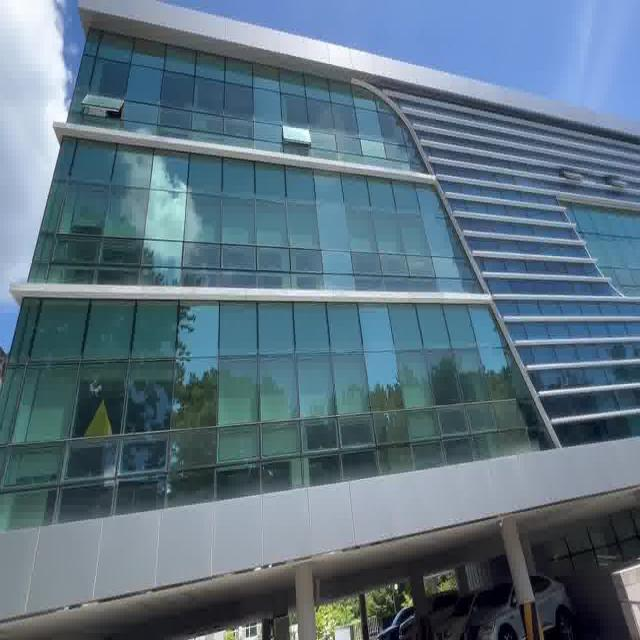building: (23, 11, 640, 540)
